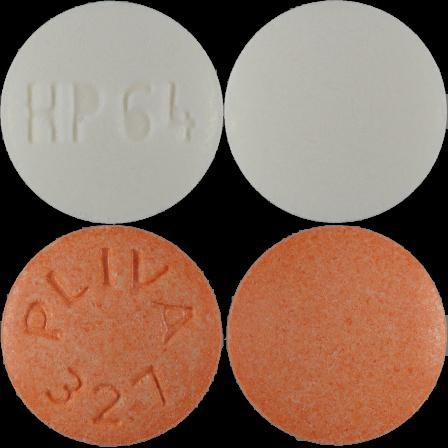61786-068: (0, 0, 224, 224)
